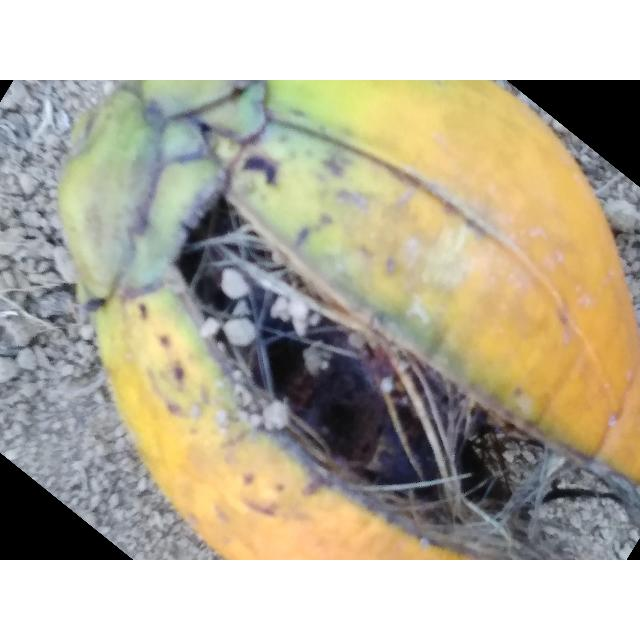damaged: (57, 80, 640, 560)
